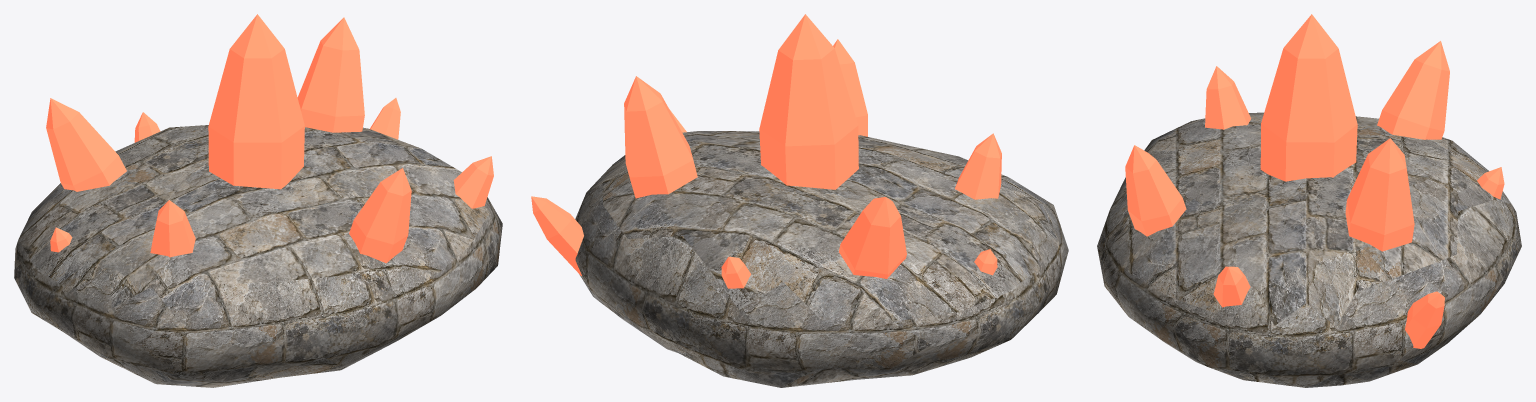
Rendered from raw-ember-deposit-v01.glb.
3 renders of one model, left to right at view 1: azimuth 30°, elevation 25°; view 2: azimuth 150°, elevation 25°; view 3: azimuth 270°, elevation 25°, orthographic. The views are drawn at different scales.
Visible parts, largest first — view 1: raw-ember-deposit; view 2: raw-ember-deposit; view 3: raw-ember-deposit.
Part boxes in pixels (x1,y1,x2,y2): raw-ember-deposit: (14,14,502,387); raw-ember-deposit: (531,14,1068,387); raw-ember-deposit: (1097,14,1521,387).
Size of the model in its own units: 2.42 by 1.61 by 2.03.
Materials: 2 (1 with a texture image).
